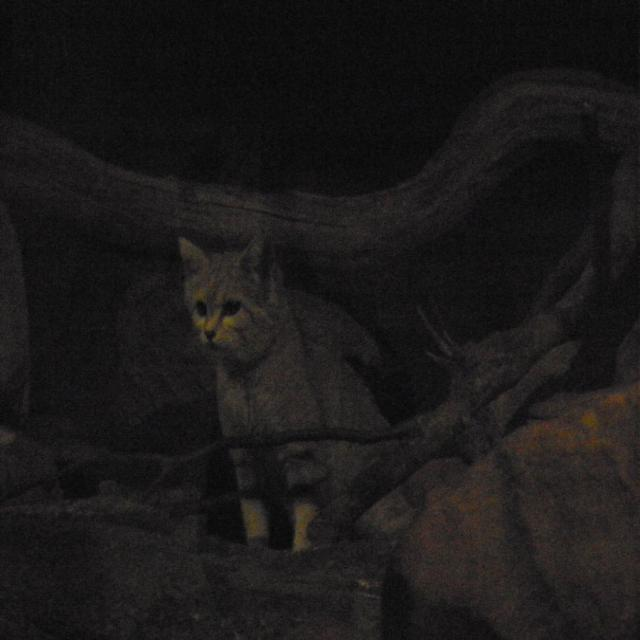Cat: (177, 223, 415, 566)
